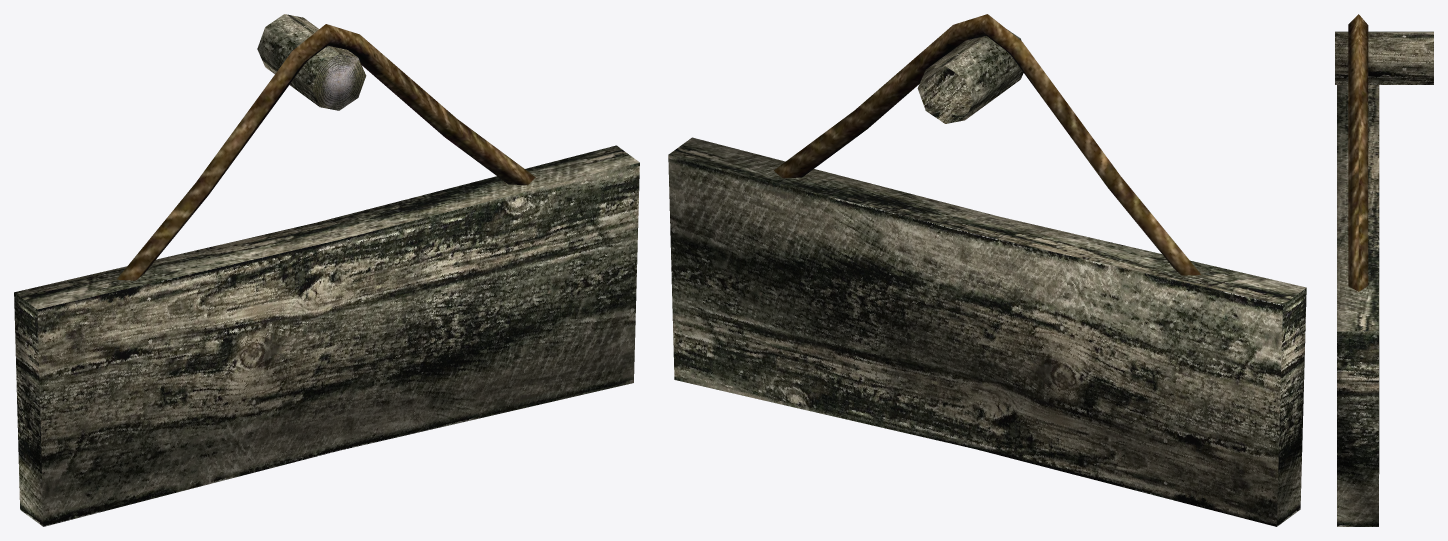
The model's file is KM_SIGN_SEWERS.glb.
3 renders of one model, left to right at view 1: azimuth 30°, elevation 25°; view 2: azimuth 150°, elevation 25°; view 3: azimuth 270°, elevation 25°, orthographic. The views are drawn at different scales.
Visible parts, largest first — view 1: Mesh; view 2: Mesh; view 3: Mesh.
Part boxes in pixels (x1,y1,x2,y2): Mesh: [14, 14, 639, 526]; Mesh: [668, 14, 1306, 526]; Mesh: [1335, 14, 1433, 526].
Bounding box in the file's own units: 1.12 × 0.7536 × 0.1768.
3 materials, 3 textured.
